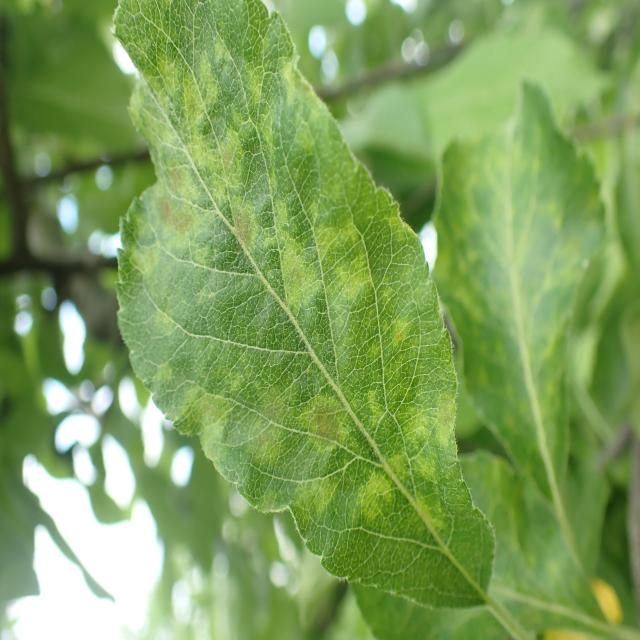scab: (104, 34, 462, 604)
